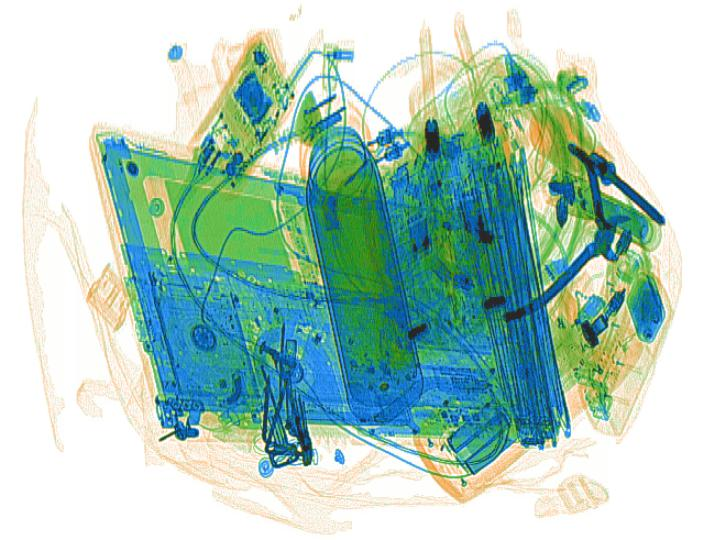battery: (440, 396, 526, 475), (581, 192, 651, 239), (625, 271, 666, 341)
